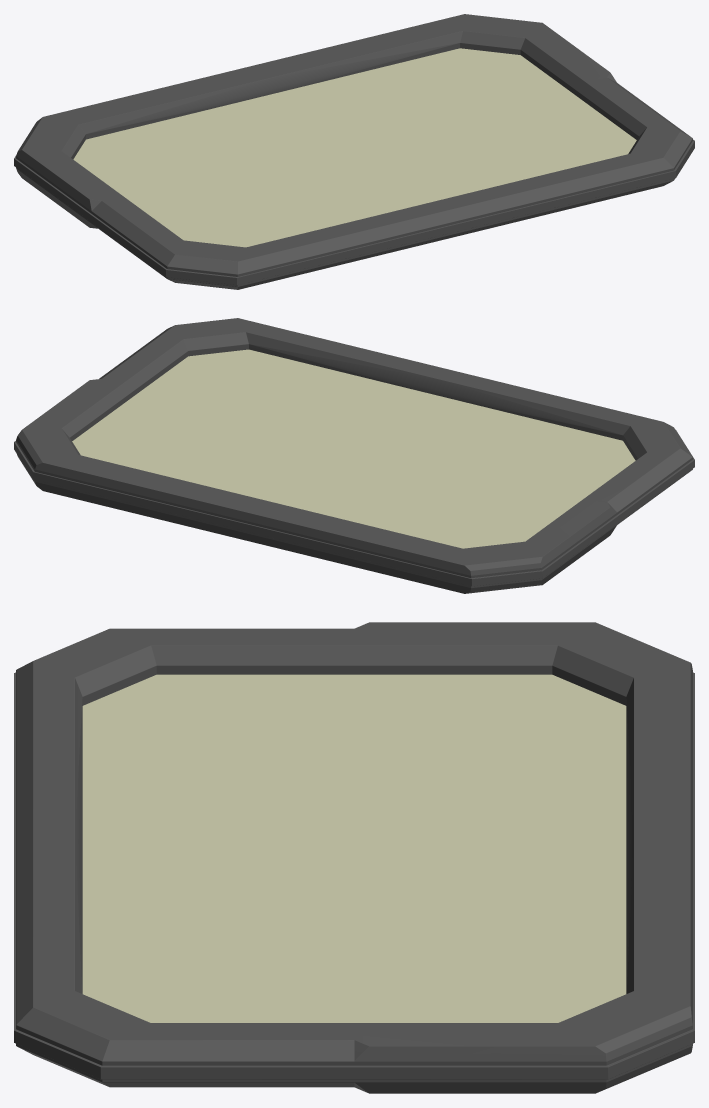
File: Tablet.fbx
3 renders of one model, top to bottom at view 1: azimuth 30°, elevation 25°; view 2: azimuth 150°, elevation 25°; view 3: azimuth 270°, elevation 25°, orthographic. The views are drawn at different scales.
Parts seen in each view (by area): view 1: Cube; view 2: Cube; view 3: Cube.
Part boxes in pixels (x1,y1,x2,y2): Cube: (14,14,694,289); Cube: (14,318,694,593); Cube: (14,622,694,1093).
Size of the model in its own units: 753 by 38.6 by 503.
